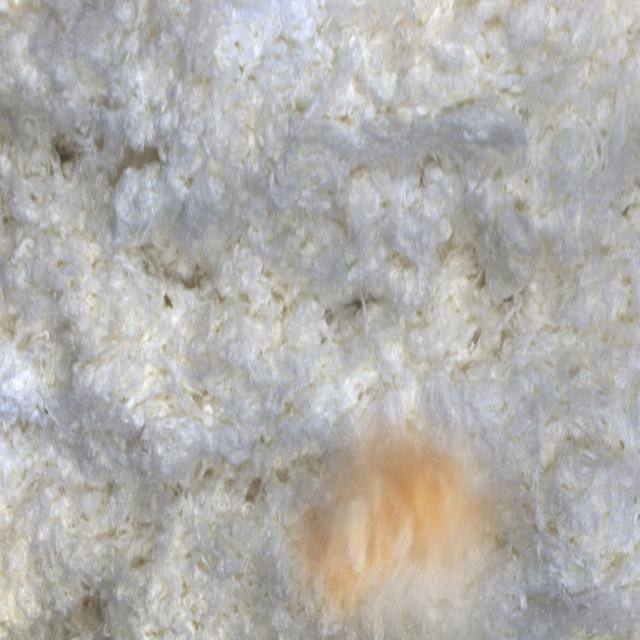dust: (280, 374, 534, 640)
